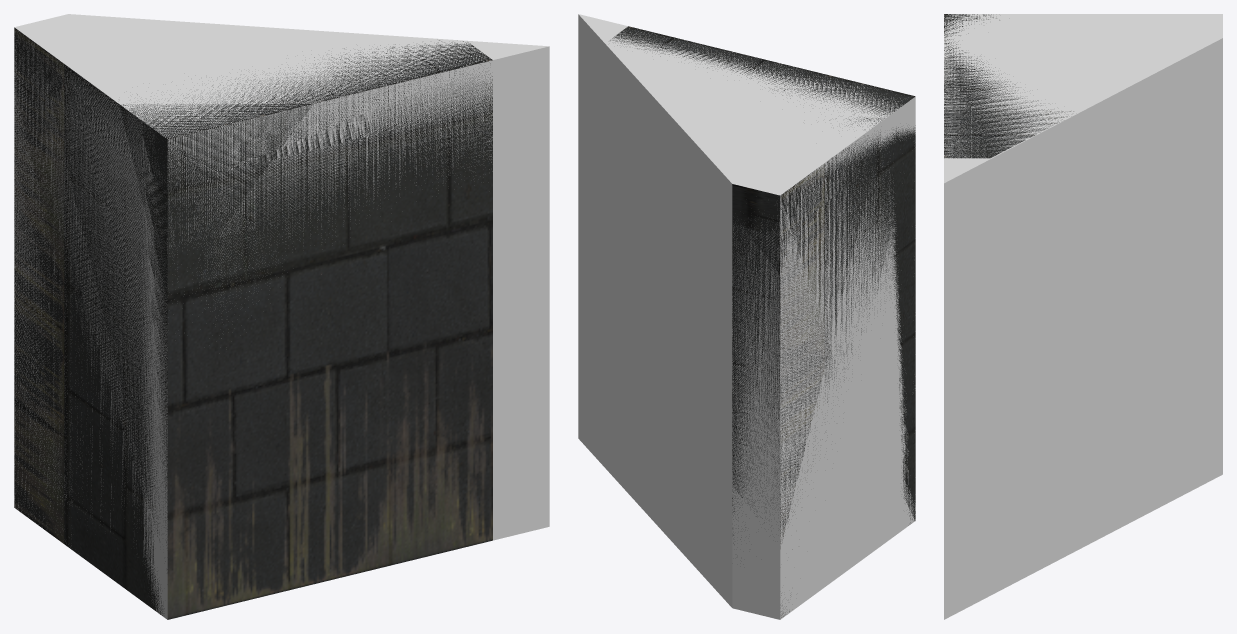
File: Tangga.fbx
3 views of the same model, side by side, from view 1: azimuth 30°, elevation 25°; view 2: azimuth 150°, elevation 25°; view 3: azimuth 270°, elevation 25° (orthographic). The views are drawn at different scales.
Parts seen in each view (by area): view 1: Tangga, Tangga_Colider; view 2: Tangga_Colider, Tangga; view 3: Tangga_Colider, Tangga.
Part boxes in pixels (x1,y1,x2,y2): Tangga: [14, 27, 492, 619]; Tangga_Colider: [14, 14, 549, 619]; Tangga_Colider: [578, 14, 915, 619]; Tangga: [610, 26, 915, 617]; Tangga_Colider: [944, 14, 1222, 619]; Tangga: [944, 14, 1073, 158].
Size of the model in its own units: 130 by 156 by 90.12.
Materials: 1 (1 with a texture image).
